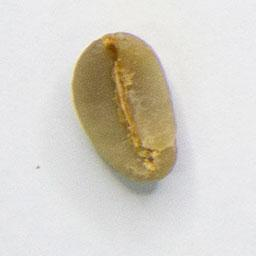longberry: (71, 30, 183, 186)
